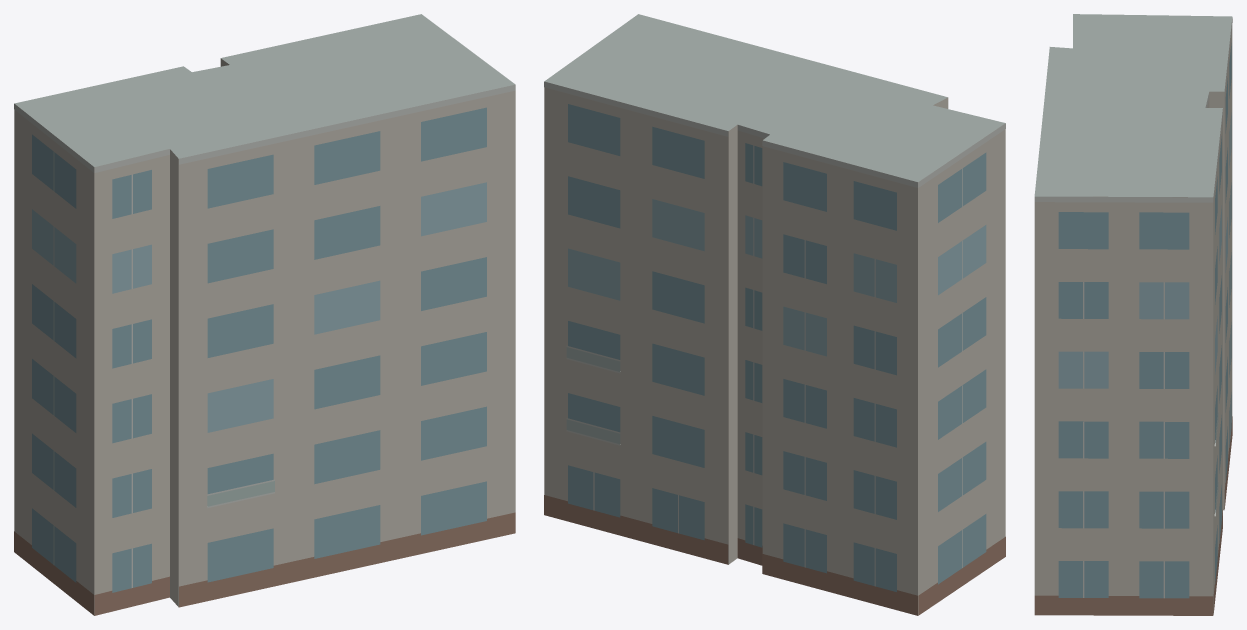
Rendered from survey-upis-32662592.glb.
3 views of the same model, side by side, from view 1: azimuth 30°, elevation 25°; view 2: azimuth 150°, elevation 25°; view 3: azimuth 270°, elevation 25° (orthographic). The views are drawn at different scales.
Parts seen in each view (by area): view 1: survey-upis-32662592.tmp; view 2: survey-upis-32662592.tmp; view 3: survey-upis-32662592.tmp.
Boxes of the visible parts, left/top/right/bottom form: survey-upis-32662592.tmp: left=14, top=14, right=515, bottom=615; survey-upis-32662592.tmp: left=544, top=14, right=1005, bottom=615; survey-upis-32662592.tmp: left=1034, top=14, right=1232, bottom=615.
Bounding box in the file's own units: 17.19 × 18.3 × 7.85.
